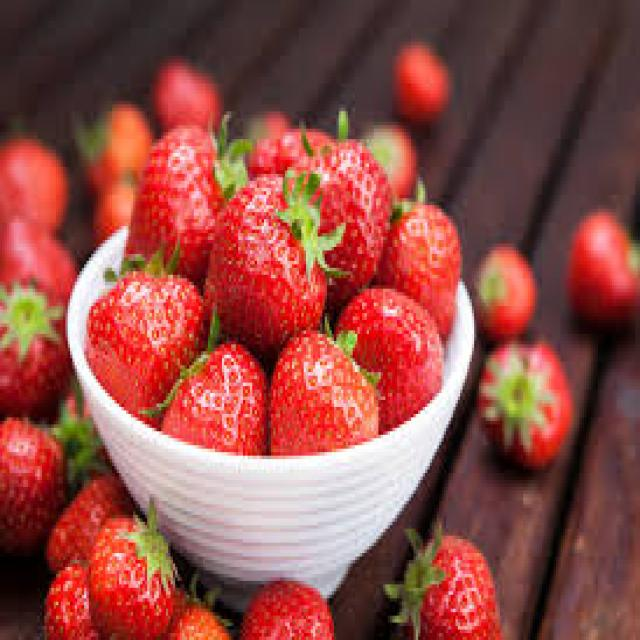strawberry: (199, 183, 337, 324), (114, 119, 231, 272), (82, 268, 198, 412), (262, 331, 380, 456), (81, 514, 175, 640), (399, 526, 501, 640)
